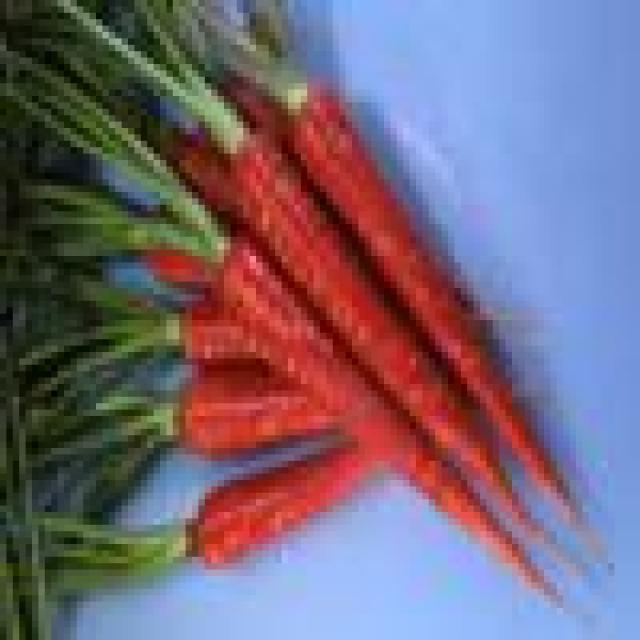Fresh_Carrot: (19, 51, 548, 598), (172, 0, 588, 551)
